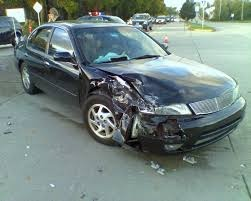Smashed: (92, 70, 188, 155)
